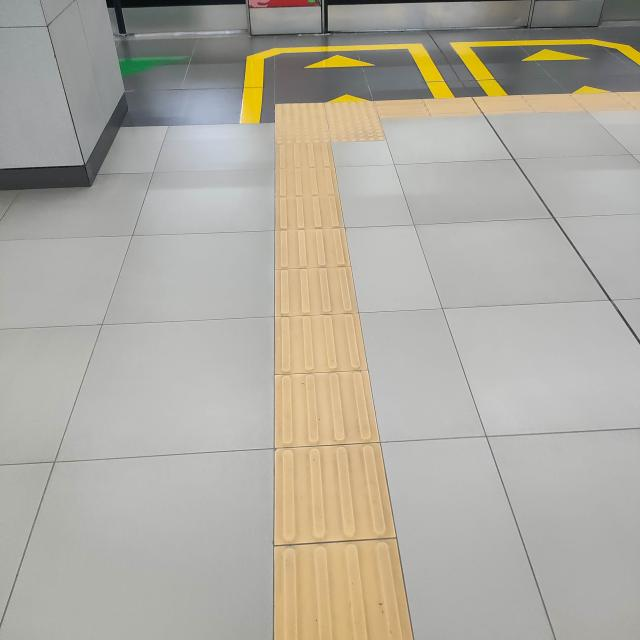kanan: (241, 82, 468, 149)
